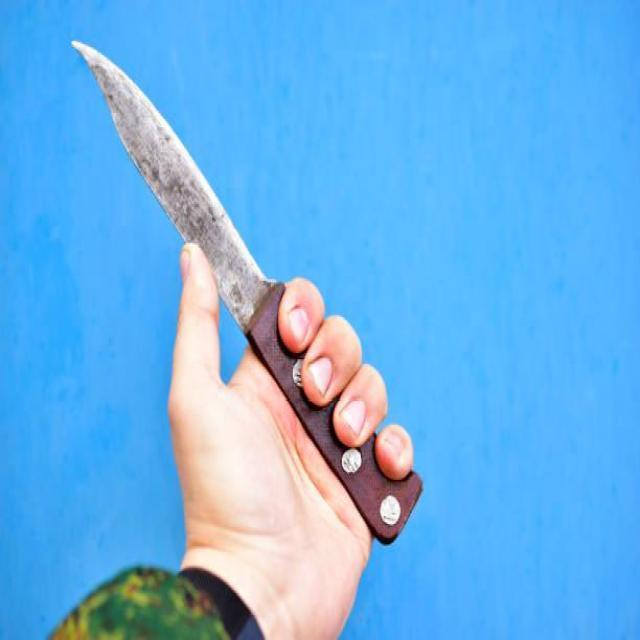faca: (64, 22, 424, 590)
